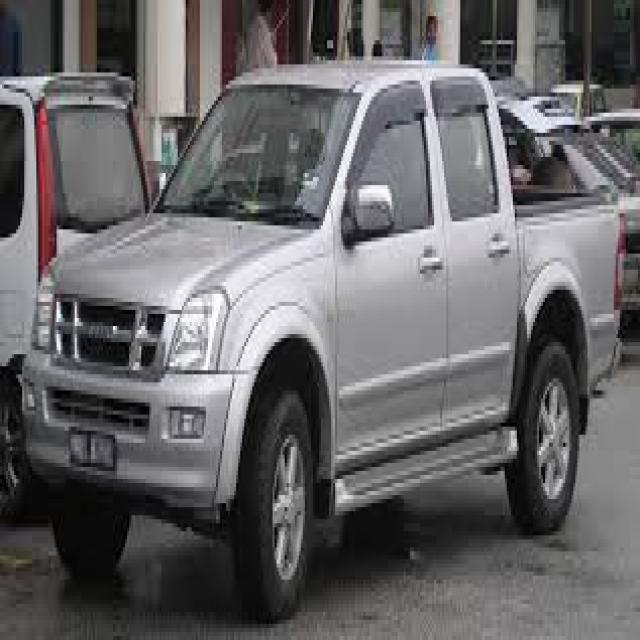CMT: (11, 63, 634, 606)
